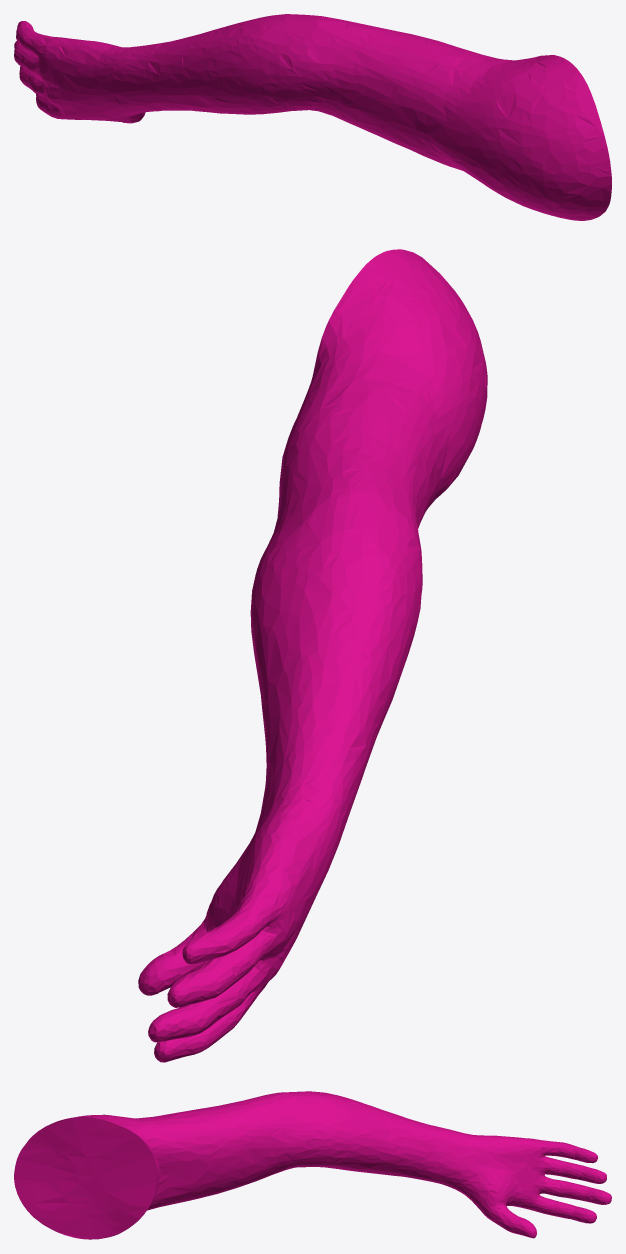
File: arm1.obj
3 views of the same model, one above another, from view 1: azimuth 30°, elevation 25°; view 2: azimuth 150°, elevation 25°; view 3: azimuth 270°, elevation 25° (orthographic). The views are drawn at different scales.
Parts seen in each view (by area): view 1: obj_0; view 2: obj_0; view 3: obj_0.
Part boxes in pixels (x1=…): obj_0: x1=14, y1=14, x2=611, y2=220; obj_0: x1=138, y1=249, x2=487, y2=1062; obj_0: x1=14, y1=1091, x2=611, y2=1239.
Size of the model in its own units: 17.14 by 15.88 by 48.03.
